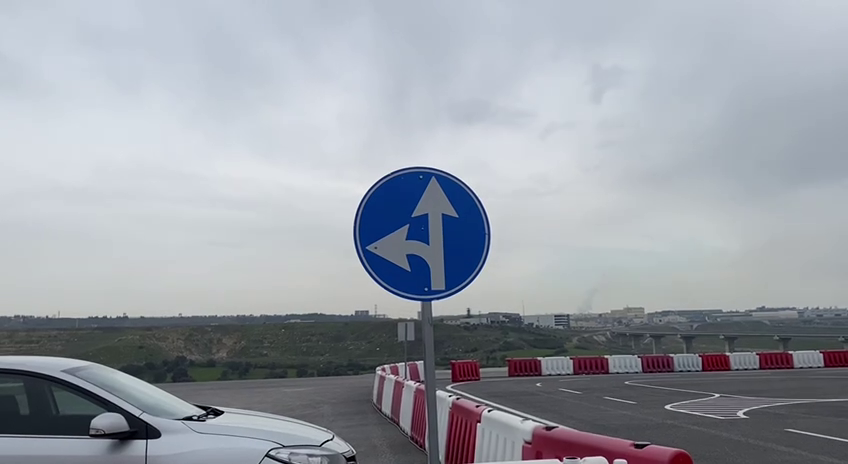forwardAndLeft: (348, 164, 492, 304)
